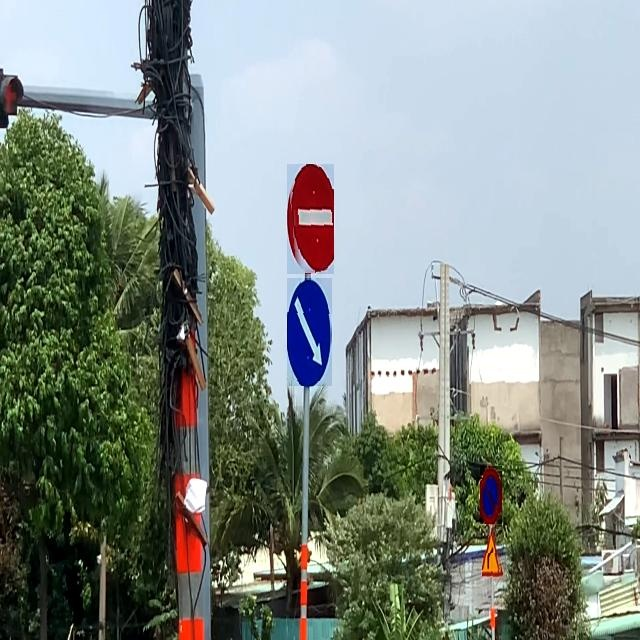bien_cam: (287, 164, 334, 274), (287, 278, 332, 386), (480, 466, 502, 524), (482, 527, 503, 577)
